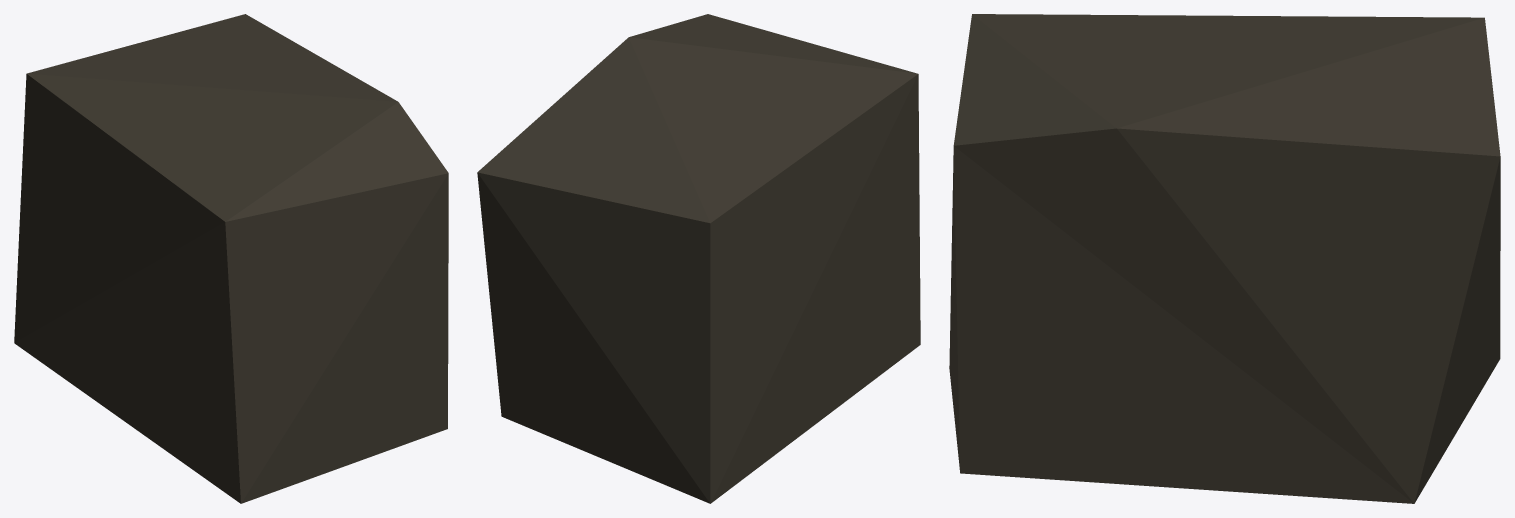
The model's file is Brick_Single_12.fbx.
3 views of the same model, side by side, from view 1: azimuth 30°, elevation 25°; view 2: azimuth 150°, elevation 25°; view 3: azimuth 270°, elevation 25° (orthographic). The views are drawn at different scales.
Visible parts, largest first — view 1: Group5596; view 2: Group5596; view 3: Group5596.
Boxes of the visible parts, x1,y1,x2,y2 form: Group5596: [14, 14, 448, 503]; Group5596: [477, 14, 920, 503]; Group5596: [949, 14, 1500, 503].
Size of the model in its own units: 0.3731 by 0.4419 by 0.5832.
